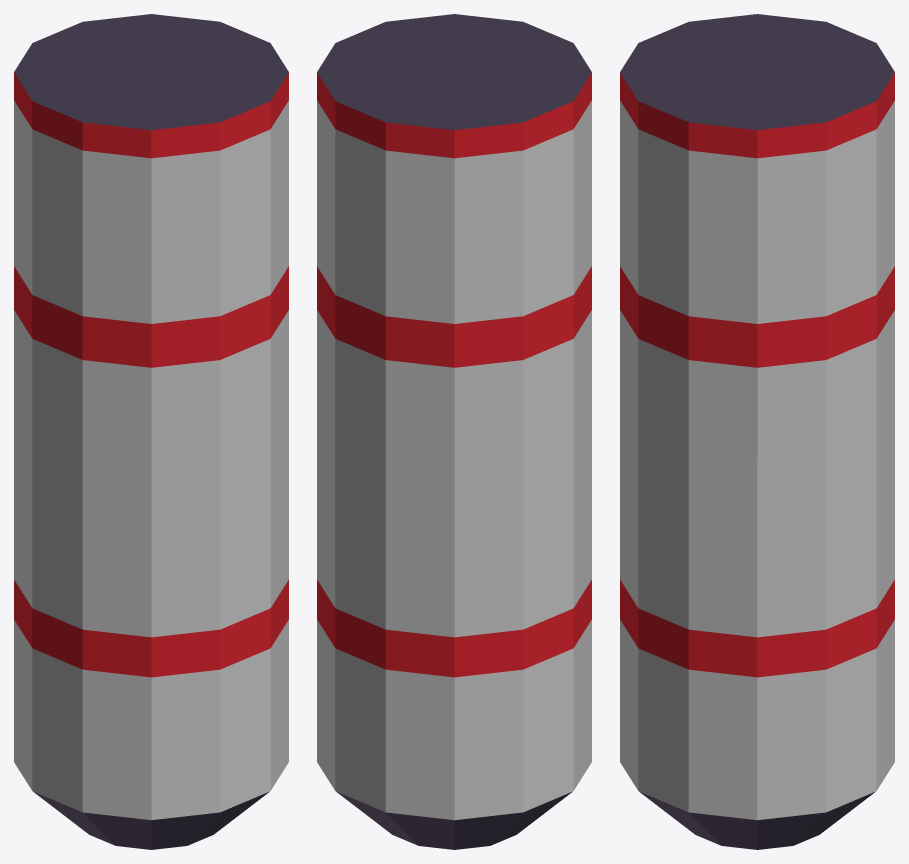
Rendered from rocket Boody.fbx.
The picture shows the model from 3 angles, left to right: view 1: azimuth 30°, elevation 25°; view 2: azimuth 150°, elevation 25°; view 3: azimuth 270°, elevation 25°; orthographic projection.
Parts seen in each view (by area): view 1: Rocket Body; view 2: Rocket Body; view 3: Rocket Body.
Boxes of the visible parts, x1=… form: Rocket Body: x1=14, y1=14, x2=288, y2=849; Rocket Body: x1=317, y1=14, x2=591, y2=849; Rocket Body: x1=620, y1=14, x2=894, y2=849.
Size of the model in its own units: 200 by 600 by 200.
